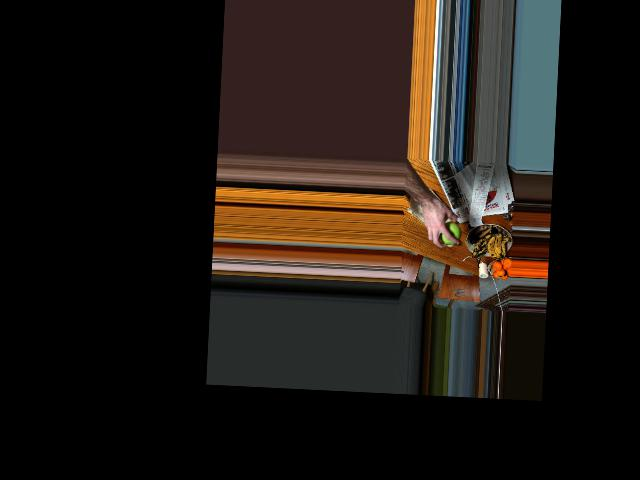apple: (438, 220, 461, 246)
